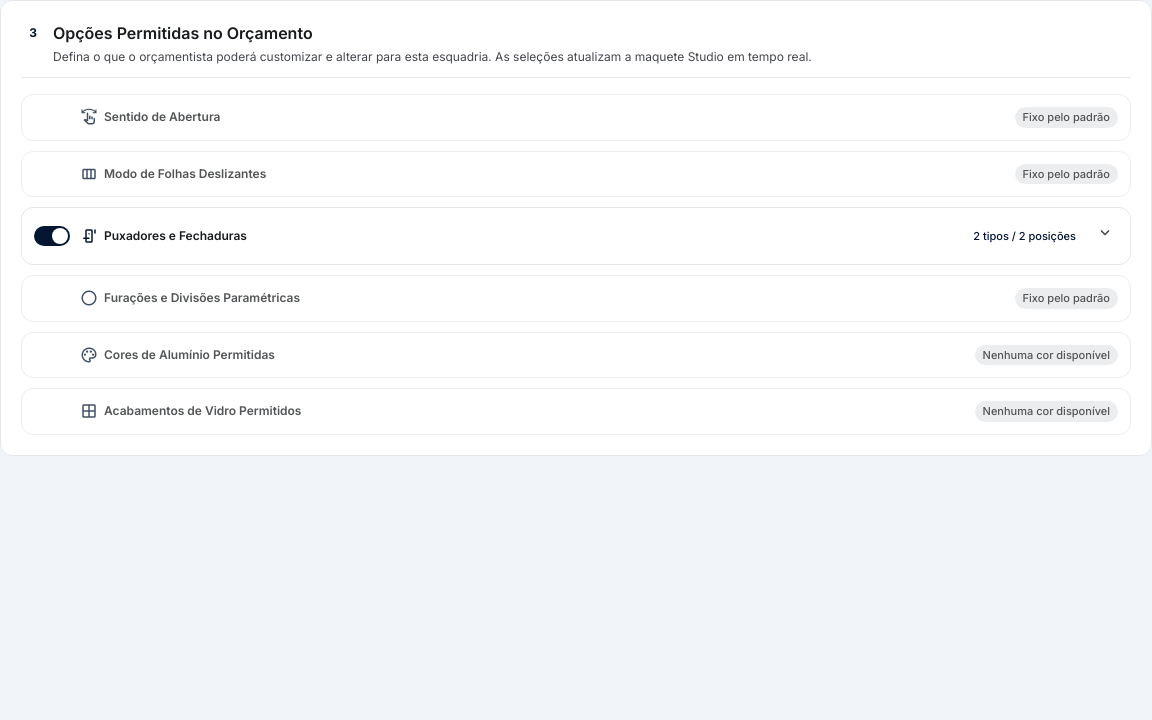
Test case: TemplateOptionSchemaEditor › deve expandir as opções ao clicar no botão de expandir da seção
This screenshot has width=1152, height=720.
Click the button titled "Expandir opções": (1105, 236) [1092,220,1118,252]
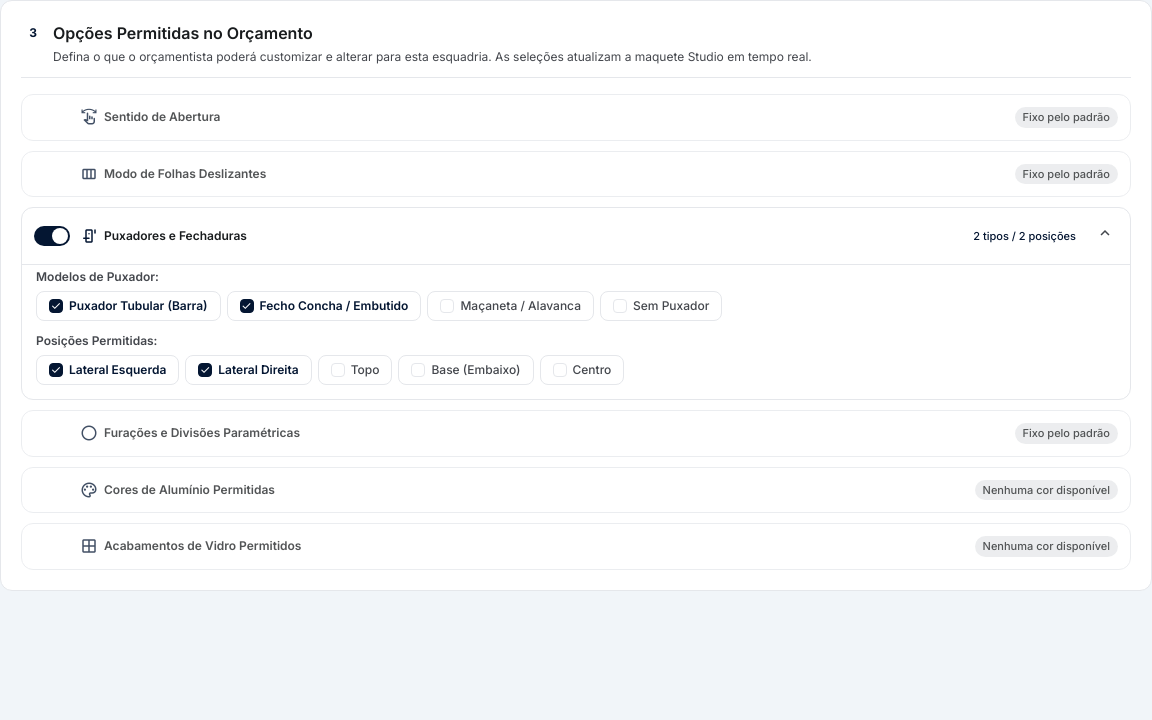
Now the text "Modelos de Puxador:" is shown, box [36,269,159,284]
Now the text "Posições Permitidas:" is shown, box [36,333,158,348]
